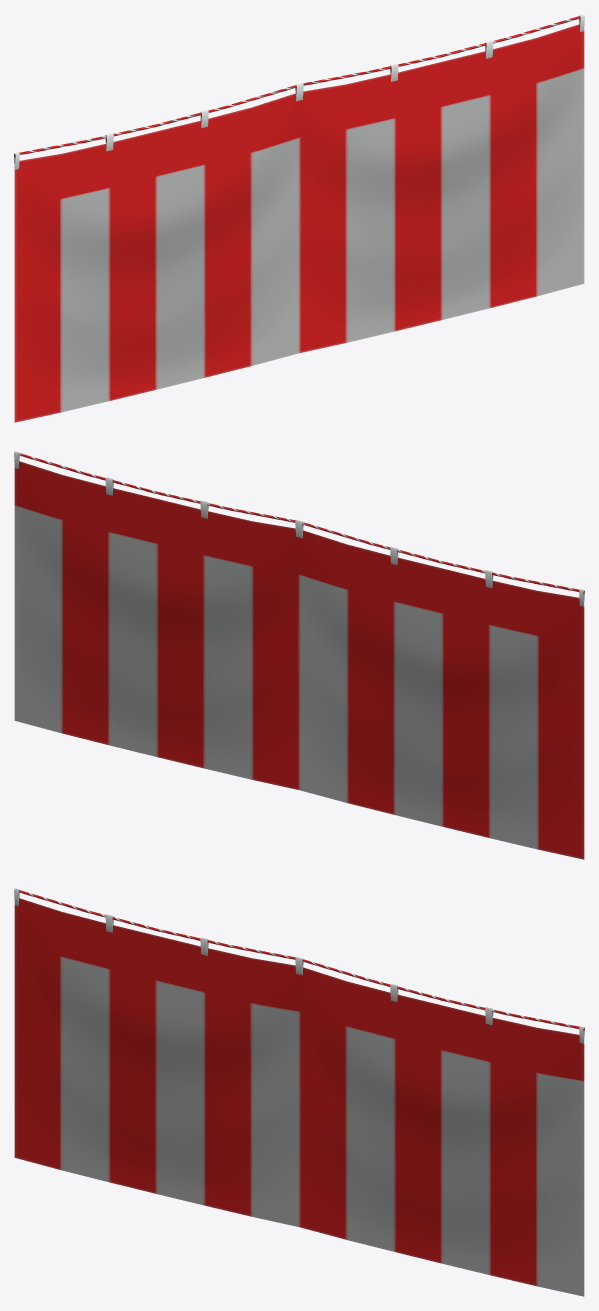
Rendered from set_redandwhite_curtain_01.fbx.
3 renders of one model, top to bottom at view 1: azimuth 30°, elevation 25°; view 2: azimuth 150°, elevation 25°; view 3: azimuth 330°, elevation 25°, orthographic.
Visible parts, largest first — view 1: set_redandwhite_curtain_01; view 2: set_redandwhite_curtain_01; view 3: set_redandwhite_curtain_01.
Part boxes in pixels (left/top/right/bottom): set_redandwhite_curtain_01: left=14, top=14, right=584, bottom=422; set_redandwhite_curtain_01: left=14, top=451, right=584, bottom=859; set_redandwhite_curtain_01: left=14, top=888, right=584, bottom=1296.
Size of the model in its own units: 400 by 182 by 2.01.
